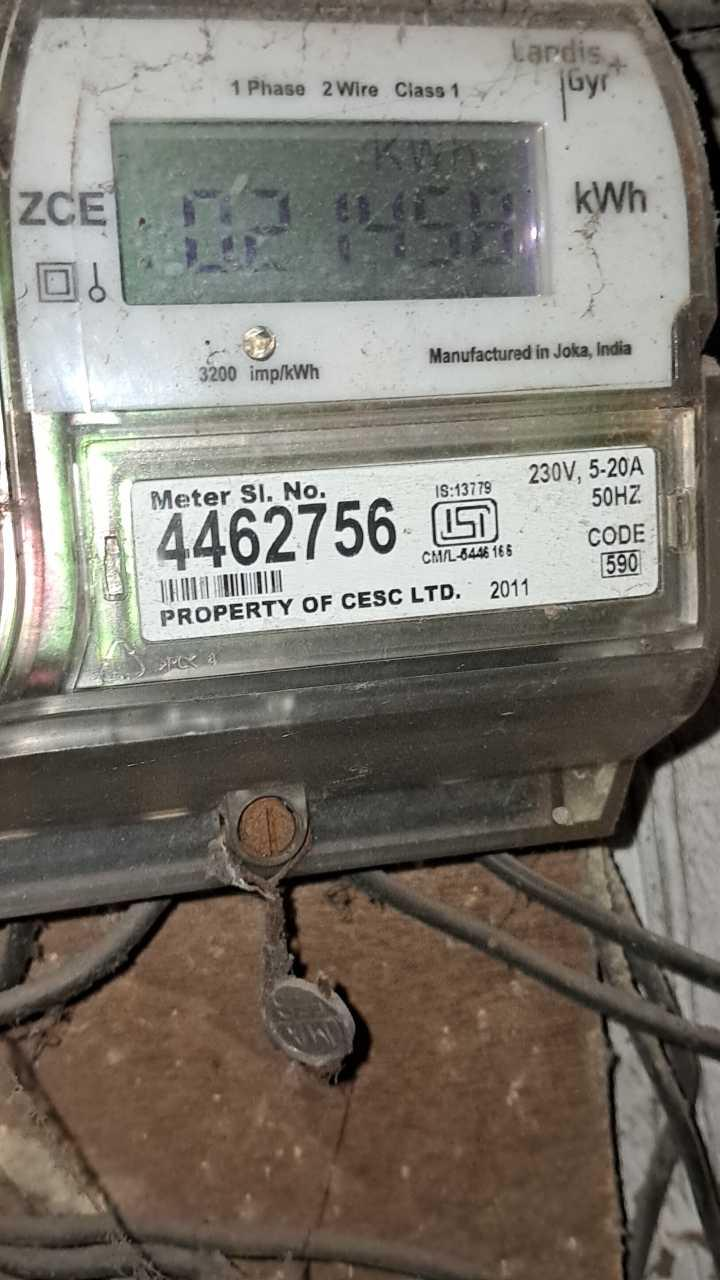meter_readings: (173, 179, 530, 281)
serial_number: (152, 497, 399, 571)
